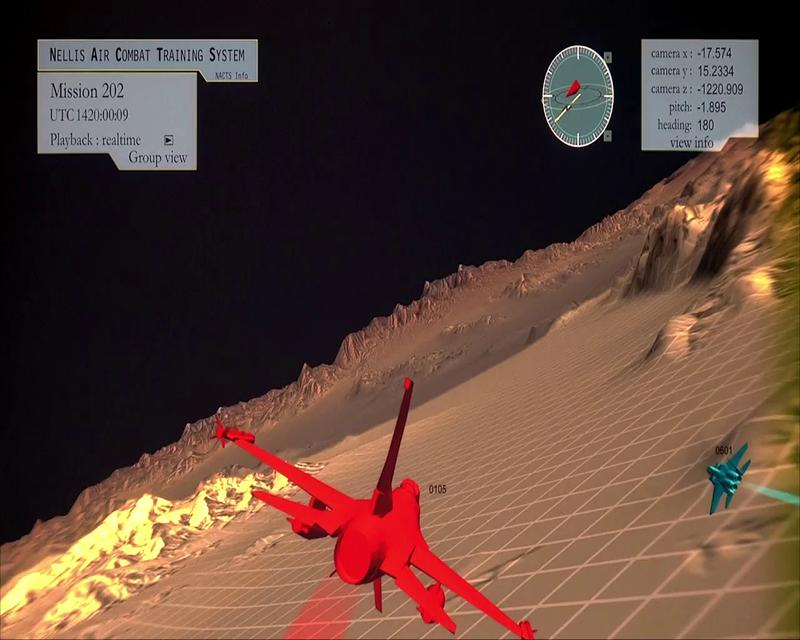UAV: (206, 378, 537, 640), (705, 441, 751, 516)
